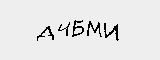Б: (71, 19, 83, 39)
Д: (34, 23, 55, 42)
И: (100, 22, 120, 42)
М: (87, 21, 102, 39)
Ч: (58, 20, 71, 39)
